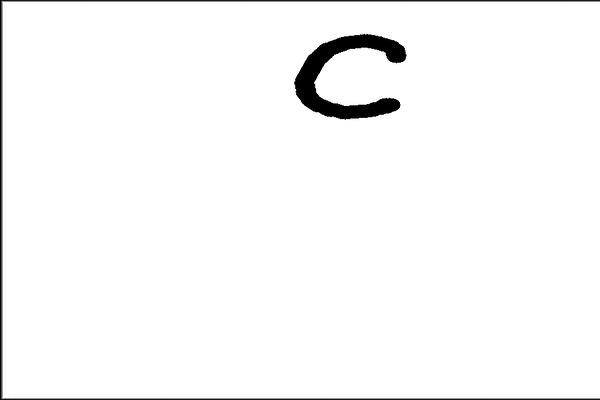C: (290, 30, 411, 122)
